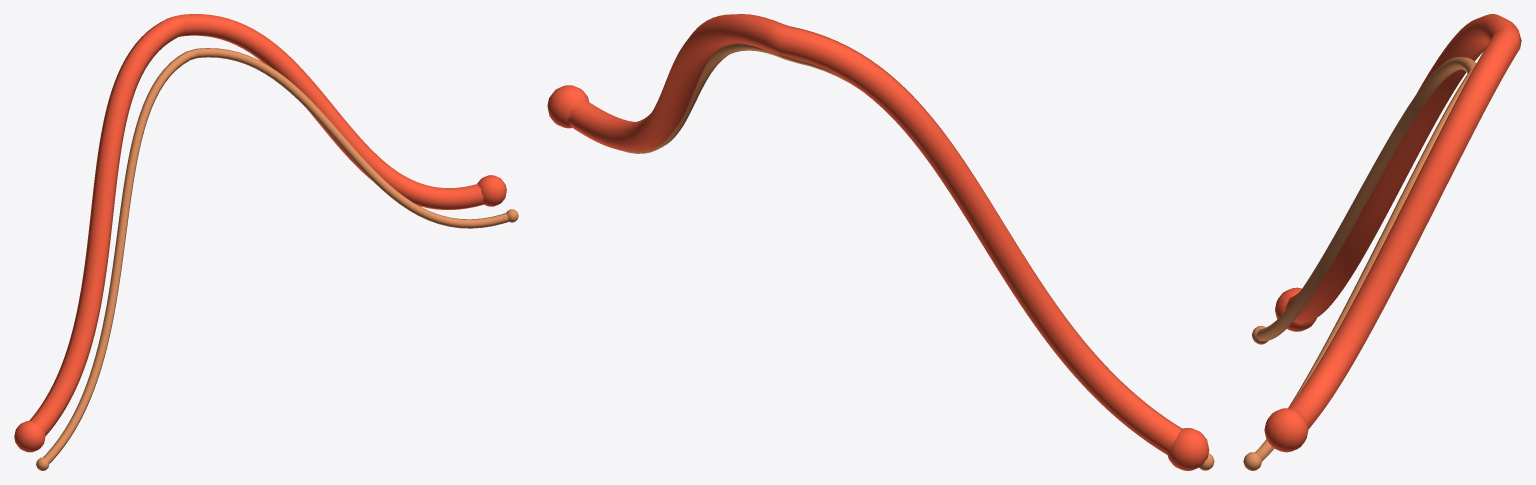
The model's file is brand-object.glb.
The picture shows the model from 3 angles, left to right: view 1: azimuth 30°, elevation 25°; view 2: azimuth 150°, elevation 25°; view 3: azimuth 270°, elevation 25°; orthographic projection. The views are drawn at different scales.
Parts seen in each view (by area): view 1: signature-main, signature-echo; view 2: signature-main, signature-echo; view 3: signature-main, signature-echo.
Boxes of the visible parts, bbox=[...] form: signature-main: bbox=[14, 14, 506, 452]; signature-echo: bbox=[36, 48, 518, 470]; signature-main: bbox=[547, 14, 1209, 470]; signature-echo: bbox=[620, 43, 1214, 470]; signature-main: bbox=[1264, 14, 1521, 452]; signature-echo: bbox=[1243, 57, 1476, 470].
Size of the model in its own units: 3.72 by 2.45 by 1.32.
